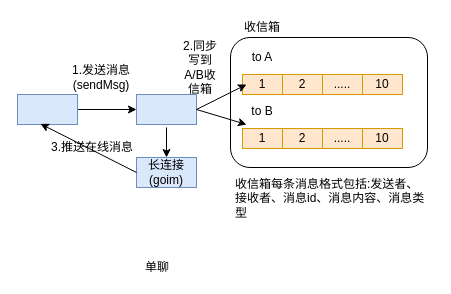
Some shapes in this 451 by 294 pixel diagram are drawn without their labels. The shapes that lost their labels are listed below. From the top down, each one's centre as x and y in pixels, then its label:
At (x=47, y=109): "app".
At (x=166, y=109): "imService".
